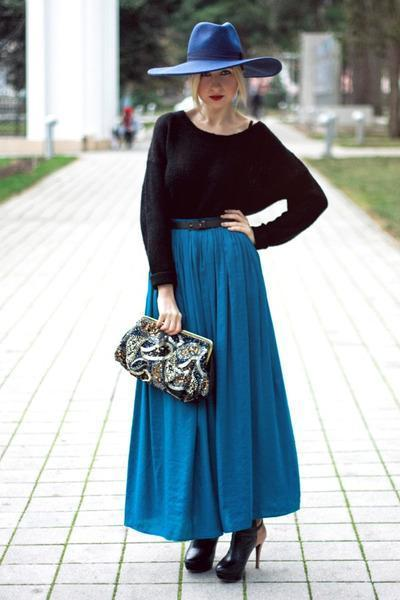bag: (115, 315, 217, 413)
hat: (156, 22, 275, 83)
shirt: (140, 111, 327, 299)
shoe: (184, 519, 260, 585)
skirt: (124, 228, 299, 547)
